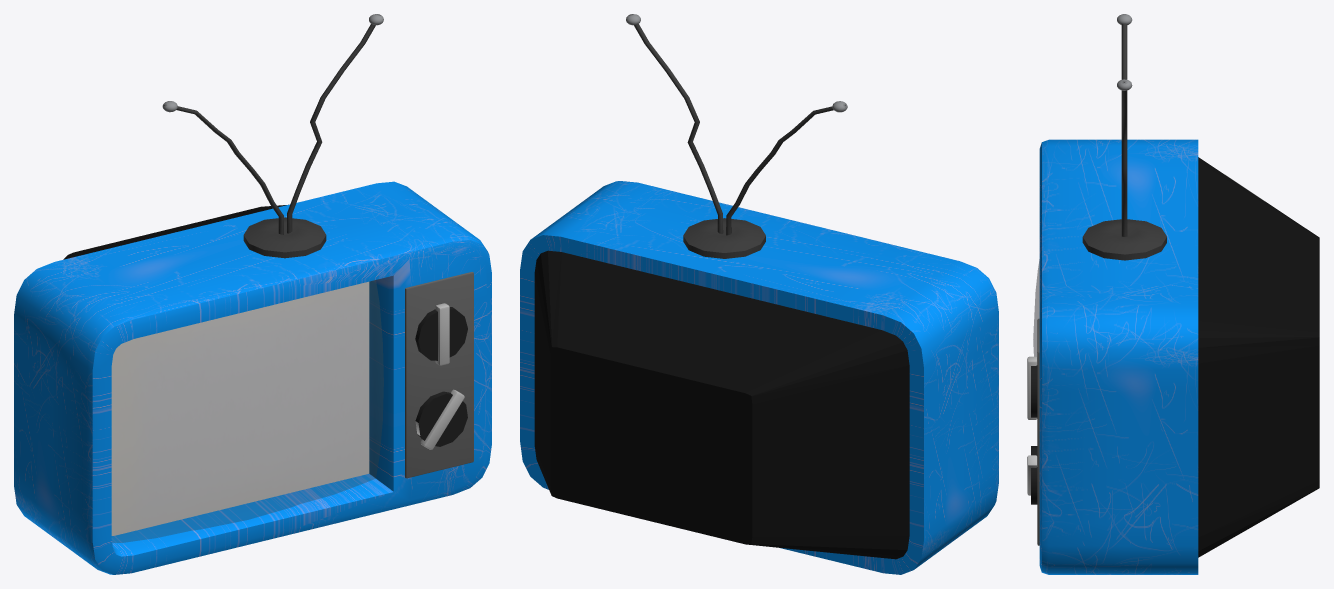
3 views of the same model, side by side, from view 1: azimuth 30°, elevation 25°; view 2: azimuth 150°, elevation 25°; view 3: azimuth 270°, elevation 25° (orthographic). The views are drawn at different scales.
Parts seen in each view (by area): view 1: Tv, Tv Glass, Projection Screen; view 2: Tv; view 3: Tv, Projection Screen, Tv Glass.
Part boxes in pixels (<box>): Tv: <box>14,14,491,574</box>; Tv Glass: <box>112,280,383,542</box>; Projection Screen: <box>111,281,467,535</box>; Tv: <box>520,14,998,574</box>; Tv: <box>1027,14,1319,574</box>; Projection Screen: <box>1031,365,1037,504</box>; Tv Glass: <box>1033,259,1039,356</box>.
Size of the model in its own units: 80.9 by 88.44 by 49.8.
Materials: 10 (5 with a texture image).
